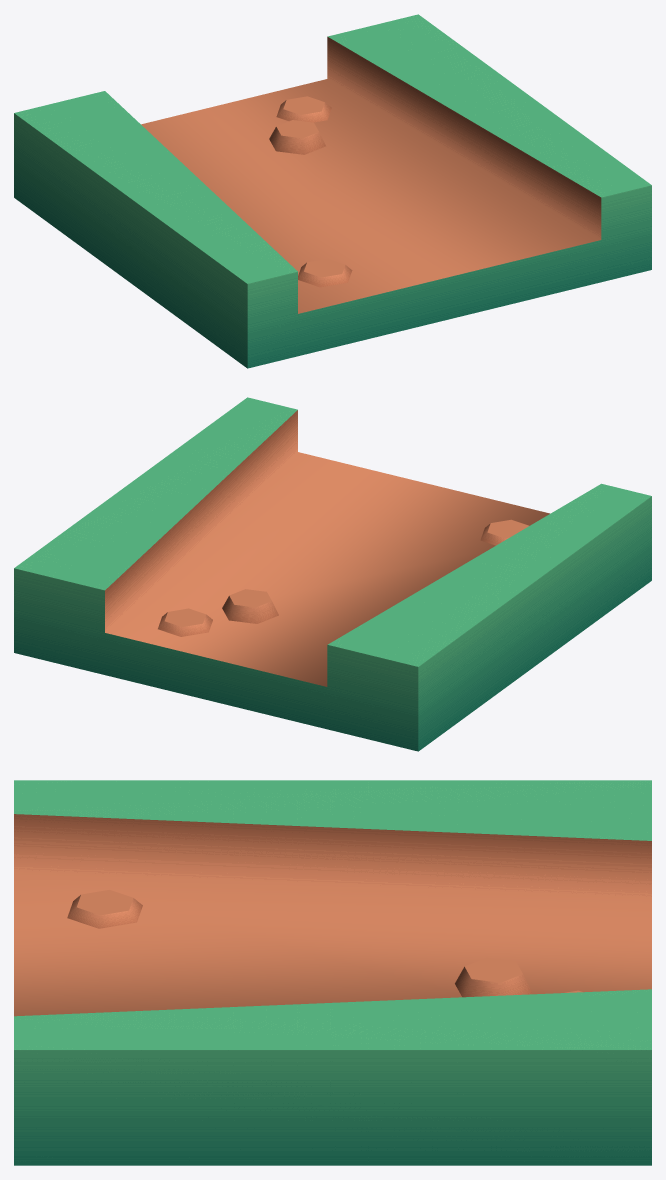
Rendered from tile-transition.glb.
3 views of the same model, one above another, from view 1: azimuth 30°, elevation 25°; view 2: azimuth 150°, elevation 25°; view 3: azimuth 270°, elevation 25° (orthographic). The views are drawn at different scales.
Parts seen in each view (by area): view 1: tile-transition; view 2: tile-transition; view 3: tile-transition.
Part boxes in pixels (left/top/right/bottom): tile-transition: left=14, top=14, right=651, bottom=368; tile-transition: left=14, top=397, right=651, bottom=751; tile-transition: left=14, top=780, right=651, bottom=1165.
Bounding box in the file's own units: 1 × 0.2 × 1.
Materials: 1 (1 with a texture image).
